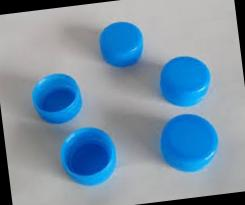Plastik: (158, 114, 219, 172), (59, 127, 117, 187), (159, 56, 210, 107), (32, 74, 82, 124), (98, 21, 142, 68)
